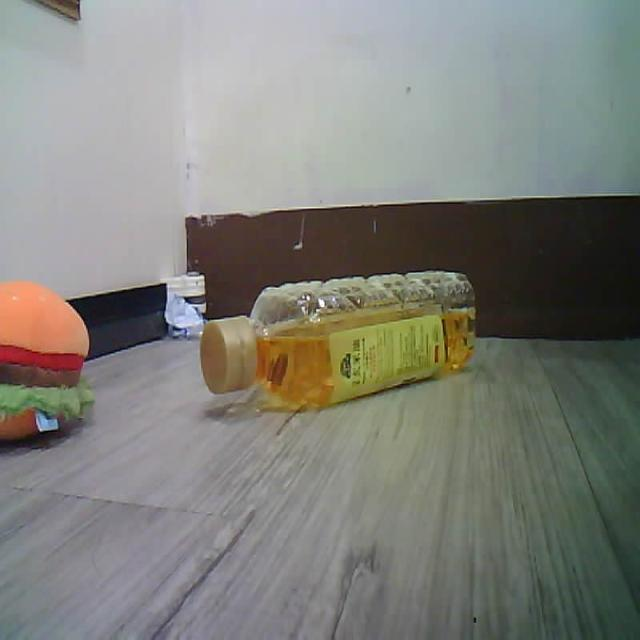bottle: (201, 271, 474, 405)
